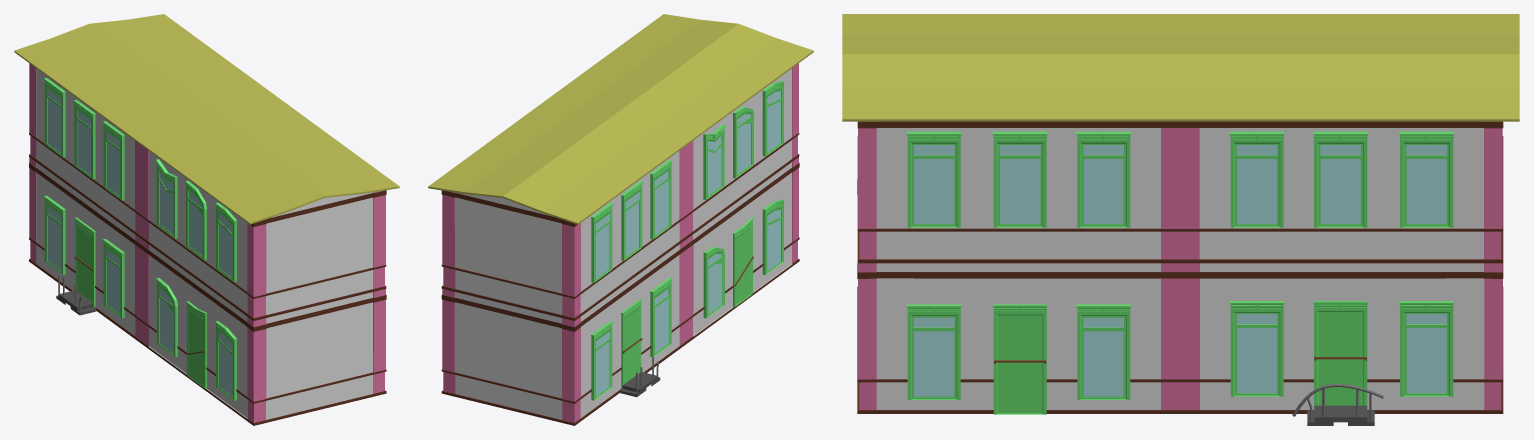
The model's file is House_structure_02.fbx.
The picture shows the model from 3 angles, left to right: view 1: azimuth 30°, elevation 25°; view 2: azimuth 150°, elevation 25°; view 3: azimuth 270°, elevation 25°; orthographic projection. The views are drawn at different scales.
Visible parts, largest first — view 1: House_structure_02; view 2: House_structure_02; view 3: House_structure_02.
Part boxes in pixels (x1,y1,x2,y2): House_structure_02: (14, 14, 399, 425); House_structure_02: (428, 14, 813, 425); House_structure_02: (842, 14, 1519, 425).
Bounding box in the file's own units: 503 × 624 × 1224.
